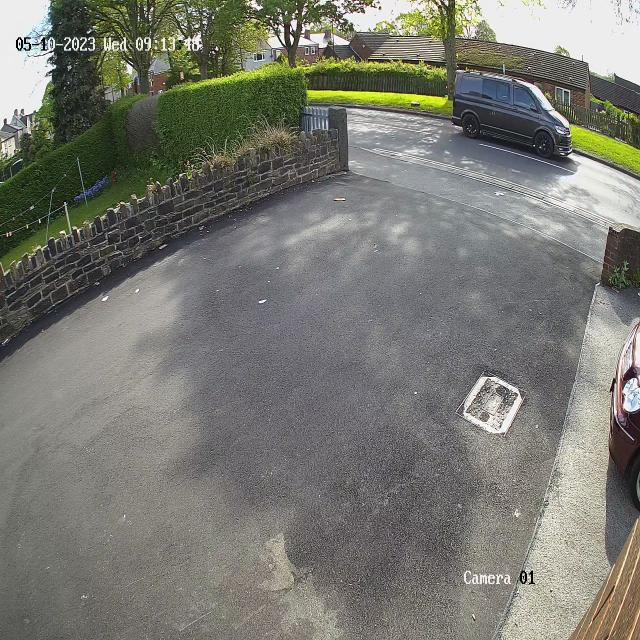vehicle: (448, 57, 583, 167)
